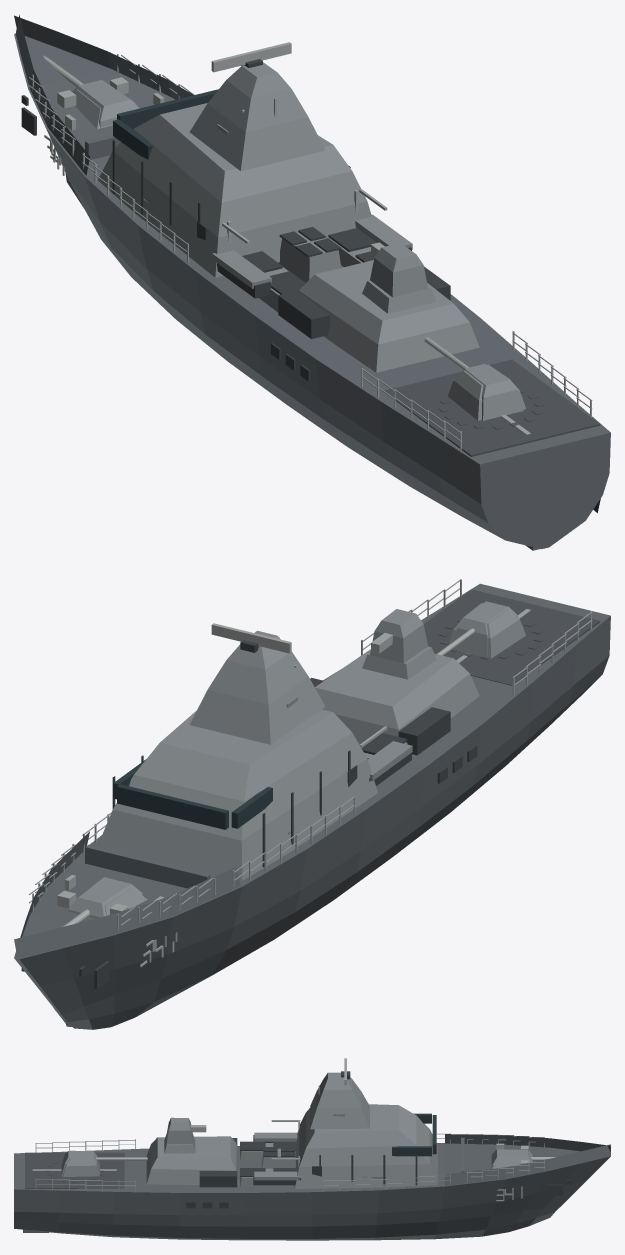
File: saar6.glb
The picture shows the model from 3 angles, top to bottom: view 1: azimuth 30°, elevation 25°; view 2: azimuth 150°, elevation 25°; view 3: azimuth 270°, elevation 25°; orthographic projection. The views are drawn at different scales.
Visible parts, largest first — view 1: stern, bridge, mid, bow, engine, radar, CiwsDrum, AftGunHouse, sam, GunHouse, aft_gun, ciws (+1 smaller); view 2: bridge, bow, mid, stern, radar, engine, CiwsDrum, AftGunHouse, aft_gun, GunHouse, ciws, ScannerBar; view 3: mid, stern, bow, bridge, engine, radar, CiwsDrum, aft_gun, GunHouse, sam, AftGunHouse, ciws (+3 smaller).
Boxes of the visible parts, box(x1,y1,x2,y2) form: stern: box(271, 266, 610, 549); bridge: box(98, 89, 371, 277); mid: box(82, 152, 600, 512); bow: box(14, 14, 194, 274); engine: box(298, 260, 479, 372); radar: box(190, 62, 325, 171); CiwsDrum: box(370, 243, 427, 297); AftGunHouse: box(459, 364, 523, 420); sam: box(278, 232, 341, 282); GunHouse: box(72, 80, 139, 127); aft_gun: box(448, 364, 525, 420); ciws: box(362, 280, 436, 313); bridge: box(98, 665, 377, 880); bow: box(14, 831, 242, 1029); mid: box(54, 718, 481, 1024); stern: box(310, 579, 610, 811); radar: box(189, 630, 325, 744); engine: box(315, 649, 479, 744); CiwsDrum: box(370, 609, 427, 663); AftGunHouse: box(453, 601, 518, 657); aft_gun: box(449, 603, 525, 658); GunHouse: box(68, 877, 143, 918); ciws: box(362, 646, 436, 679); ScannerBar: box(211, 623, 291, 653); mid: box(179, 1120, 450, 1240); stern: box(14, 1138, 237, 1239); bow: box(434, 1133, 610, 1239); bridge: box(294, 1085, 437, 1188); engine: box(146, 1136, 239, 1184); radar: box(310, 1072, 369, 1129); CiwsDrum: box(166, 1117, 192, 1144); aft_gun: box(63, 1150, 99, 1176); GunHouse: box(492, 1149, 532, 1167); sam: box(261, 1148, 295, 1168); AftGunHouse: box(61, 1151, 100, 1175); ciws: box(164, 1134, 195, 1153).
Size of the model in its own units: 10.16 by 17.01 by 54.
